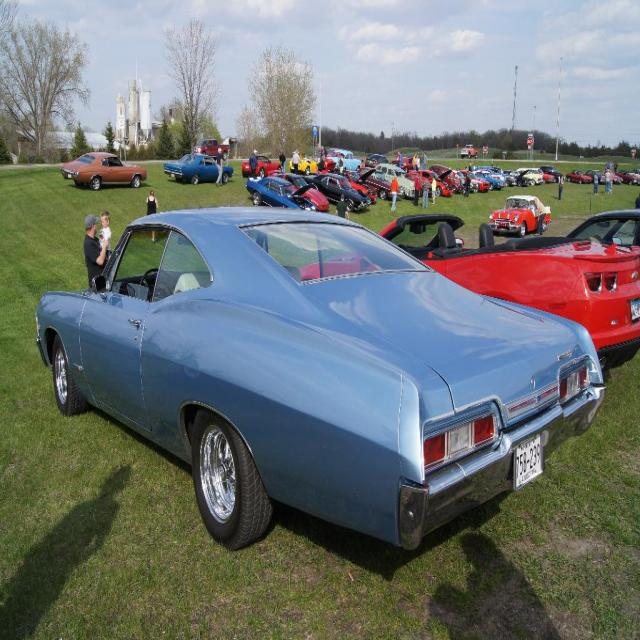other: (35, 140, 640, 557)
